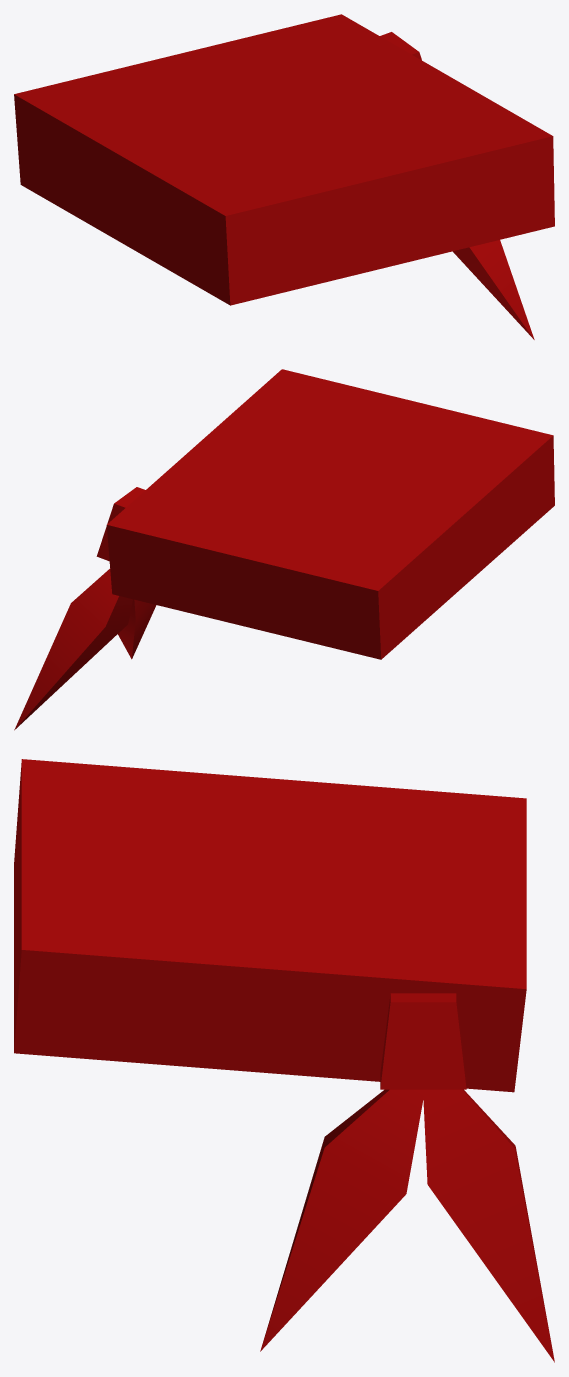
The model's file is Bandana 02.FBX.
The picture shows the model from 3 angles, top to bottom: view 1: azimuth 30°, elevation 25°; view 2: azimuth 150°, elevation 25°; view 3: azimuth 270°, elevation 25°; orthographic projection. The views are drawn at different scales.
Parts seen in each view (by area): view 1: Bandana 02; view 2: Bandana 02; view 3: Bandana 02.
Boxes of the visible parts, x1,y1,x2,y2 form: Bandana 02: (14,14,554,339); Bandana 02: (14,369,554,730); Bandana 02: (14,759,554,1362).
Size of the model in its own units: 70.57 by 46.91 by 64.79.
